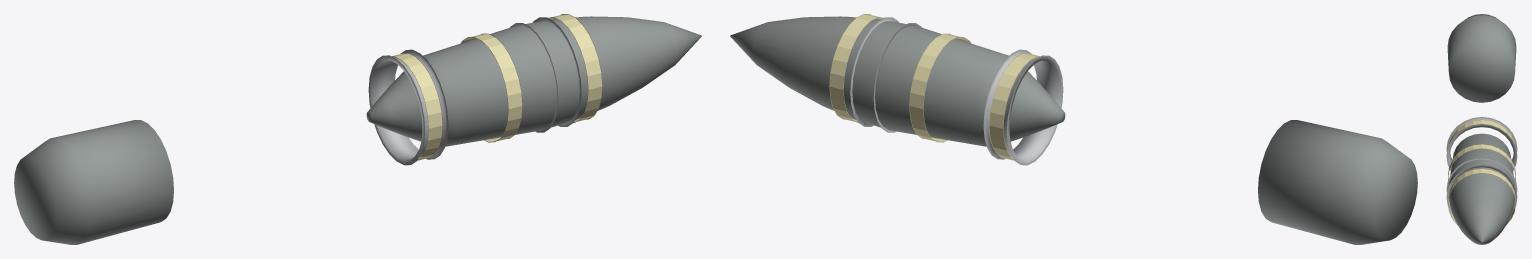
The model's file is FR_SLBM_M20_LOD1.fbx.
The picture shows the model from 3 angles, left to right: view 1: azimuth 30°, elevation 25°; view 2: azimuth 150°, elevation 25°; view 3: azimuth 270°, elevation 25°; orthographic projection. The views are drawn at different scales.
Parts seen in each view (by area): view 1: WPN_FR_SLBM_M20_LOD1_Body, WPN_FR_SLBM_M20_LOD1_Tail, WPN_FR_SLBM_M20_LOD1_Marking, WPN_FR_SLBM_M20_LOD1_Detail; view 2: WPN_FR_SLBM_M20_LOD1_Body, WPN_FR_SLBM_M20_LOD1_Tail, WPN_FR_SLBM_M20_LOD1_Marking, WPN_FR_SLBM_M20_LOD1_Detail; view 3: WPN_FR_SLBM_M20_LOD1_Body, WPN_FR_SLBM_M20_LOD1_Tail, WPN_FR_SLBM_M20_LOD1_Detail, WPN_FR_SLBM_M20_LOD1_Marking.
Part boxes in pixels (bbox=[...]): WPN_FR_SLBM_M20_LOD1_Body: bbox=[366, 16, 701, 146]; WPN_FR_SLBM_M20_LOD1_Tail: bbox=[14, 120, 173, 244]; WPN_FR_SLBM_M20_LOD1_Marking: bbox=[392, 14, 602, 160]; WPN_FR_SLBM_M20_LOD1_Detail: bbox=[368, 17, 581, 165]; WPN_FR_SLBM_M20_LOD1_Body: bbox=[730, 16, 1065, 146]; WPN_FR_SLBM_M20_LOD1_Tail: bbox=[1258, 120, 1417, 244]; WPN_FR_SLBM_M20_LOD1_Marking: bbox=[829, 14, 1039, 160]; WPN_FR_SLBM_M20_LOD1_Detail: bbox=[850, 17, 1063, 165]; WPN_FR_SLBM_M20_LOD1_Body: bbox=[1449, 133, 1514, 244]; WPN_FR_SLBM_M20_LOD1_Tail: bbox=[1447, 14, 1516, 102]; WPN_FR_SLBM_M20_LOD1_Detail: bbox=[1446, 117, 1517, 214]; WPN_FR_SLBM_M20_LOD1_Marking: bbox=[1448, 119, 1515, 225].
Size of the model in its own units: 10.7 by 1.58 by 1.58.
